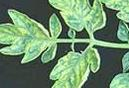Tomato leaf mosaic virus: (0, 12, 62, 65), (33, 48, 102, 88), (37, 0, 107, 37), (78, 0, 129, 33), (90, 60, 129, 88)
